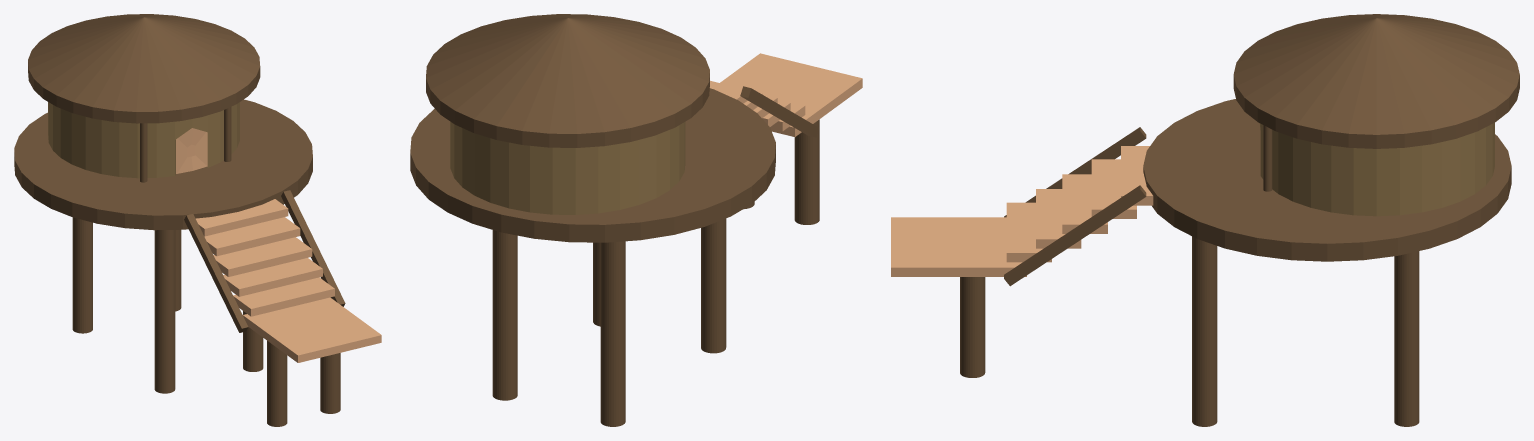
Rendered from hut.fbx.
3 renders of one model, left to right at view 1: azimuth 30°, elevation 25°; view 2: azimuth 150°, elevation 25°; view 3: azimuth 270°, elevation 25°, orthographic. The views are drawn at different scales.
Visible parts, largest first — view 1: Cone, Cylinder.002, Cylinder, Cube.005, Cylinder.006, Cylinder.007, Cube.004, Cube.006, Cube.007, Cube.003, Cylinder.009, Cube.002 (+7 smaller); view 2: Cone, Cylinder.002, Cylinder, Cube.005, Cylinder.007, Cylinder.008, Cylinder.006, Cylinder.009, Cube.008, Cylinder.005; view 3: Cone, Cylinder.002, Cylinder, Cube.005, Cylinder.005, Cylinder.008, Cylinder.010, Cube.009, Cube.006, Cube.004, Cube.003, Cube.007 (+3 smaller).
Boxes of the visible parts, <box> form: Cone: <box>28,14,260,123</box>; Cylinder.002: <box>14,99,312,230</box>; Cylinder: <box>48,102,239,178</box>; Cube.005: <box>243,297,381,362</box>; Cylinder.006: <box>154,230,175,393</box>; Cylinder.007: <box>72,217,92,333</box>; Cube.004: <box>213,237,312,276</box>; Cube.006: <box>233,277,334,316</box>; Cube.007: <box>223,258,322,296</box>; Cube.003: <box>204,217,300,256</box>; Cylinder.009: <box>267,341,287,426</box>; Cube.002: <box>196,199,288,236</box>; Cone: <box>426,14,709,147</box>; Cylinder.002: <box>410,88,775,242</box>; Cylinder: <box>450,121,685,214</box>; Cube.005: <box>720,53,862,136</box>; Cylinder.007: <box>600,241,625,426</box>; Cylinder.008: <box>492,230,517,400</box>; Cylinder.006: <box>701,218,726,353</box>; Cylinder.009: <box>794,119,819,224</box>; Cube.008: <box>740,86,818,137</box>; Cylinder.005: <box>593,242,600,326</box>; Cone: <box>1233,14,1519,148</box>; Cylinder.002: <box>1143,99,1511,261</box>; Cylinder: <box>1259,122,1494,216</box>; Cube.005: <box>891,217,1026,276</box>; Cylinder.005: <box>1192,236,1217,426</box>; Cylinder.008: <box>1394,251,1419,426</box>; Cylinder.010: <box>960,277,985,377</box>; Cube.009: <box>1004,185,1146,286</box>; Cube.006: <box>1006,202,1051,262</box>; Cube.004: <box>1062,174,1107,233</box>; Cube.003: <box>1091,159,1136,218</box>; Cube.007: <box>1036,189,1081,248</box>.
Bounding box in the file's own units: 865 × 984 × 1476.
